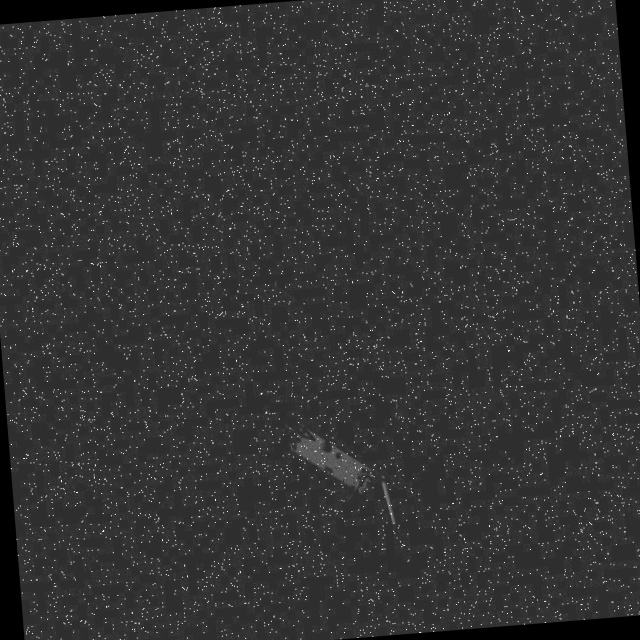satellite: (282, 412, 430, 551)
